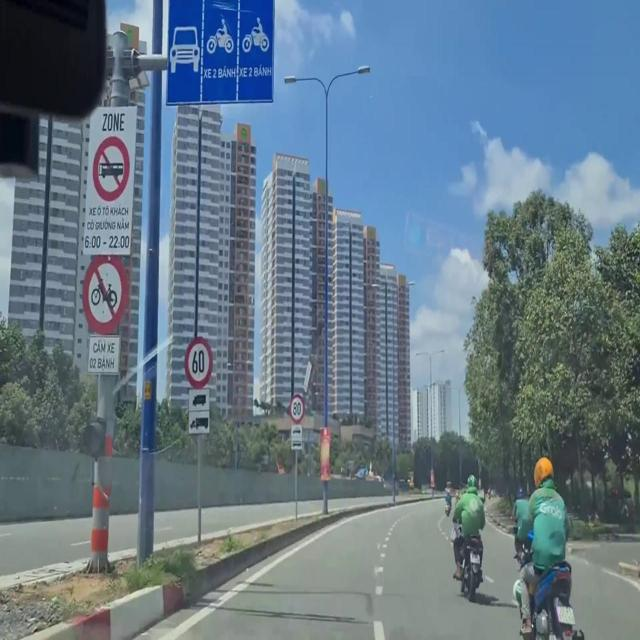Biển phụ: (83, 332, 122, 375), (183, 383, 213, 432), (286, 427, 305, 452)
Cấm các phương tiện hoạt động trong khung giờ cố định: (80, 101, 133, 251)
Cấm xe máy: (77, 249, 129, 331)
Giới hạn tốc độ: 60Km/h: (179, 332, 216, 386)
Giới hạn tốc độ: 80Km/h: (286, 391, 305, 427)
Làn đường cho từng xe: (164, 3, 275, 111)
